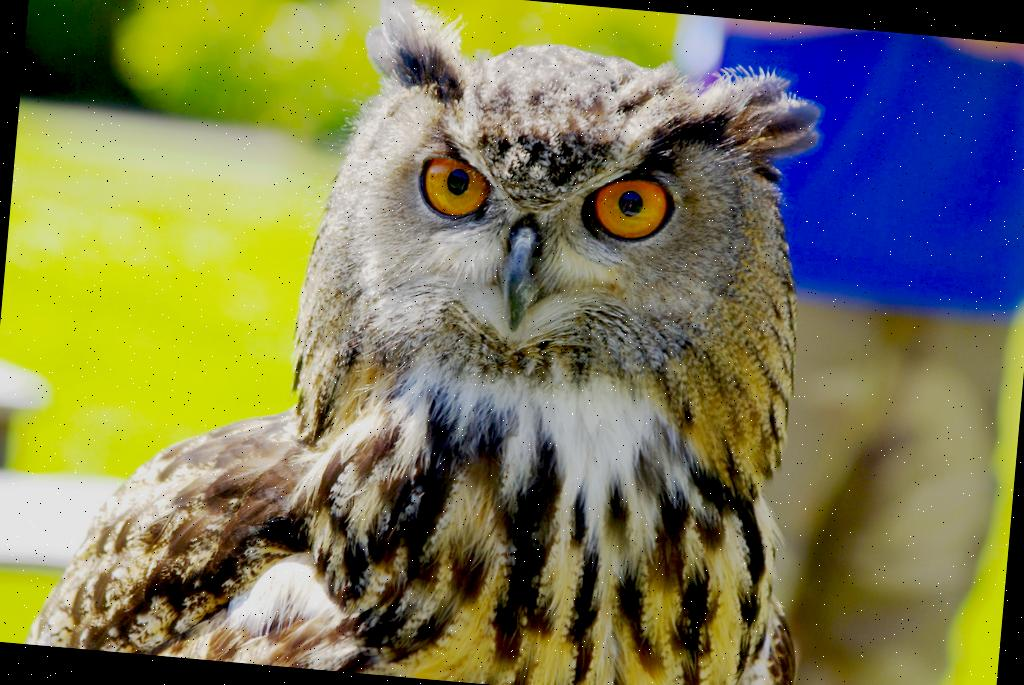Owl: (26, 0, 853, 685)
